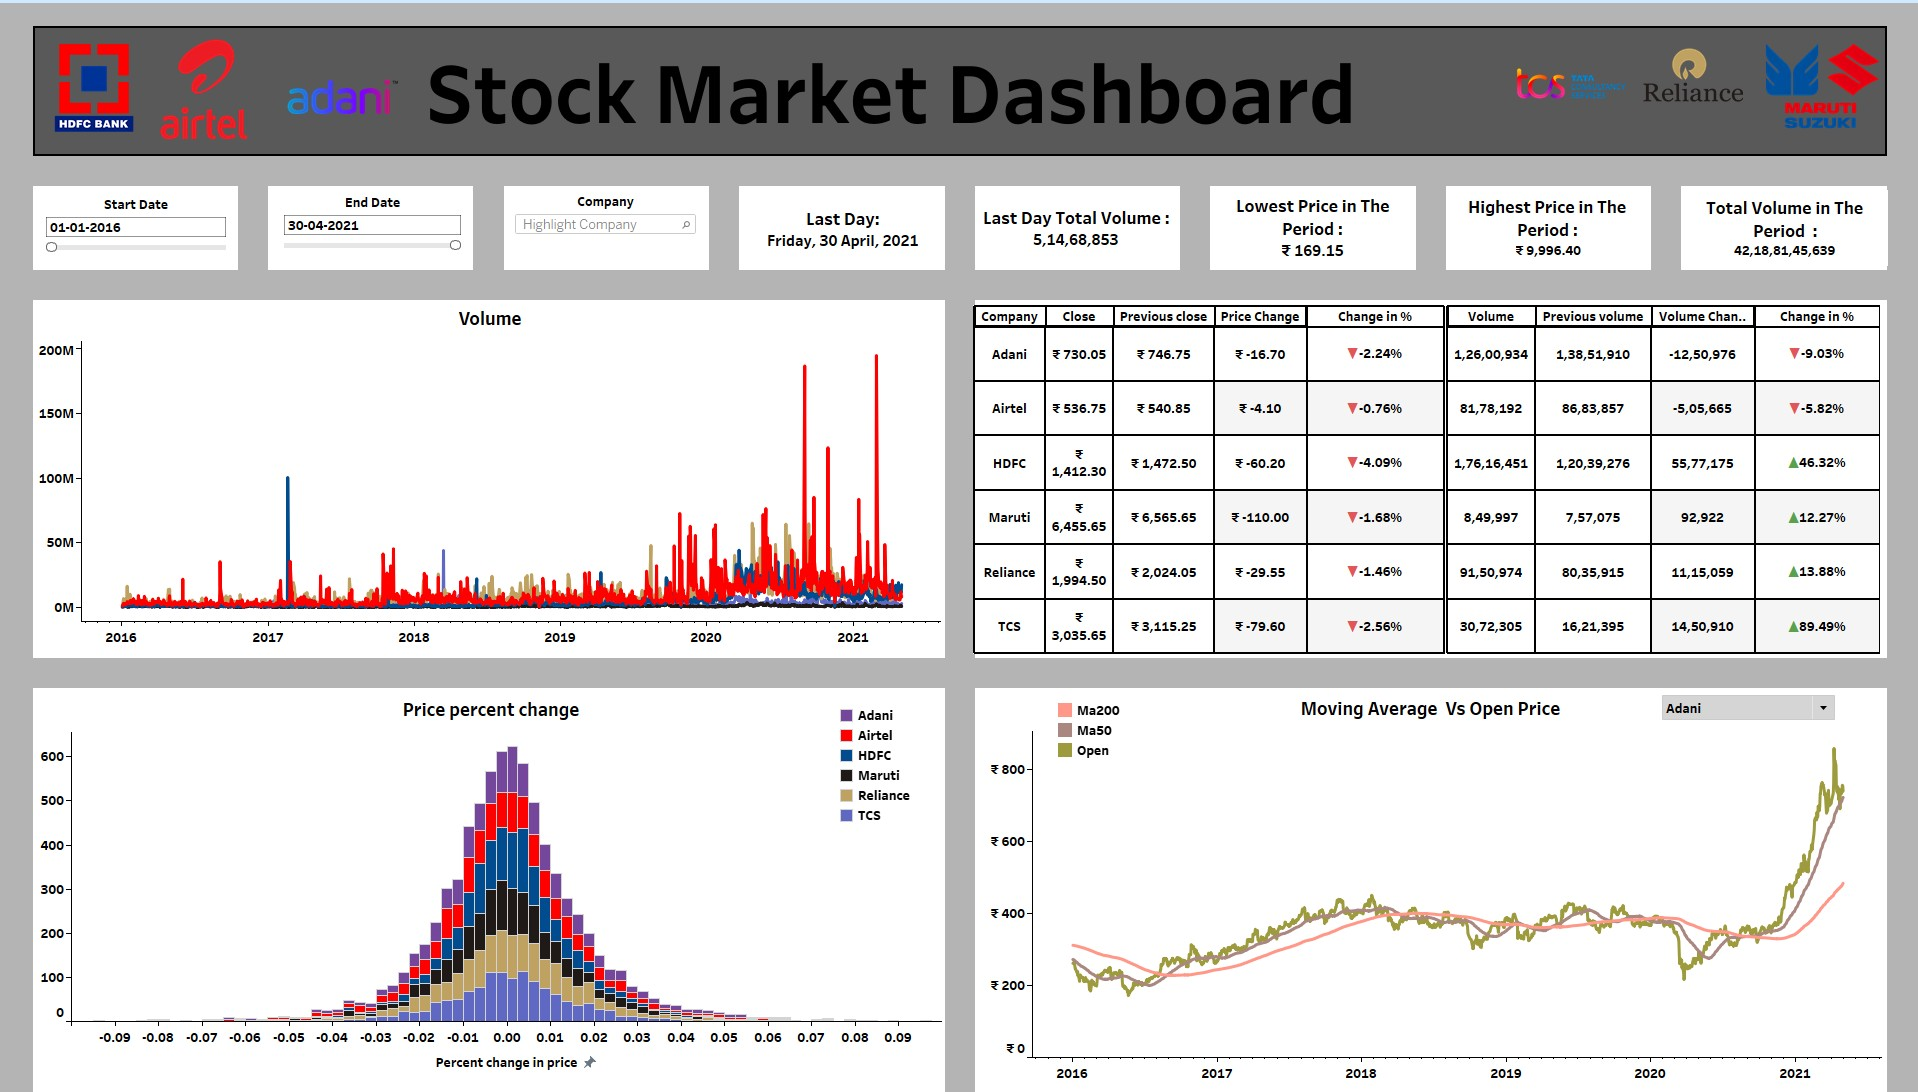

What the dashboard file says about the page in this screenshot:
{"tool":"tableau","page":{"name":"Dashboard 1","canvas":[1000,1000],"units":"permille","ordinal":0},"visuals":[{"type":"blank","box":[4.8,8.7,990.3,143.3]},{"type":"image","param":"C:/BATCOMPUTER'S Drive D/Projects - DataScience/tableau/stock market analysis/st","box":[18.1,27.1,53.7,97.7]},{"type":"image","param":"C:/BATCOMPUTER'S Drive D/Projects - DataScience/tableau/stock market analysis/st","box":[918.5,27.1,70.6,96.6]},{"type":"worksheet","title":"Title","mark":"Automatic","box":[216.7,31.5,566.7,94.5]},{"type":"image","param":"C:/BATCOMPUTER'S Drive D/Projects - DataScience/tableau/stock market analysis/st","box":[79.1,32.6,45.9,94.5]},{"type":"image","param":"C:/BATCOMPUTER'S Drive D/Projects - DataScience/tableau/stock market analysis/st","box":[859.4,40.2,52.5,102.1]},{"type":"image","param":"C:/BATCOMPUTER'S Drive D/Projects - DataScience/tableau/stock market analysis/st","box":[146.1,42.4,58.5,83.6]},{"type":"image","param":"C:/BATCOMPUTER'S Drive D/Projects - DataScience/tableau/stock market analysis/st","box":[790.6,42.4,62.2,83.6]},{"type":"blank","box":[4.8,152,123.8,102.4]},{"type":"blank","box":[128.6,152,123.8,102.4]},{"type":"blank","box":[252.4,152,123.8,102.4]},{"type":"blank","box":[376.2,152,123.8,102.4]},{"type":"blank","box":[500,152,123.8,102.4]},{"type":"blank","box":[623.8,152,123.8,102.4]},{"type":"blank","box":[747.6,152,123.8,102.4]},{"type":"blank","box":[871.4,152,123.8,102.4]},{"type":"worksheet","title":"Highest Price in The Period","mark":"Automatic","box":[756.8,166.1,105,70.6]},{"type":"worksheet","title":"Last Day","mark":"Automatic","box":[385,167.2,106.2,71.7]},{"type":"worksheet","title":"Total Volume in The Period ","mark":"Automatic","box":[880.5,168.3,108,68.4]},{"type":"highlighter","title":"Price percent change","param":"[federated.19ghb2q1tj9d9819nma4t017yuri].[none:Table Name:nk]","box":[264.3,169.4,98.4,61.9]},{"type":"worksheet","title":"Last Day Total Volume","mark":"Automatic","box":[510,169.4,102.6,65.2]},{"type":"parameter","param":"[Parameters].[Parameter 2]","box":[142.4,170.5,96.6,74.9]},{"type":"worksheet","title":"Lowest Price in The Period","mark":"Automatic","box":[632.5,171.6,106.2,60.8]},{"type":"parameter","param":"[Parameters].[Parameter 1]","box":[17.5,172.6,97.8,76]},{"type":"blank","box":[4.8,254.3,495.2,347.2]},{"type":"blank","box":[500,254.3,495.2,347.2]},{"type":"worksheet","title":"Volume","mark":"Automatic","rows":["Volume"],"cols":["Date"],"box":[14.5,268.2,475.6,314.9]},{"type":"worksheet","title":"Detailed Price Table","mark":"Automatic","rows":["Table Name","Close","Previous day close price","Change in price"],"box":[506.9,271.4,248.6,313.8]},{"type":"worksheet","title":"Detailed Volume Table ","mark":"Automatic","rows":["Table Name","Volume","Previous day volume","Change in volume"],"box":[755.6,271.4,228.7,313.8]},{"type":"blank","box":[4.8,601.5,495.2,389.8]},{"type":"blank","box":[500,601.5,495.2,389.8]},{"type":"worksheet","title":"Moving average - open price","mark":"Automatic","cols":["Date"],"box":[509.4,617.8,476.2,356.1]},{"type":"worksheet","title":"Price percent change","mark":"Automatic","rows":["Percent change in price"],"cols":["Percent change in price (bin)"],"box":[15.7,618.9,474.9,355.1]},{"type":"filter","title":"Moving average - open price","param":"[federated.19ghb2q1tj9d9819nma4t017yuri].[none:Table Name:nk]","box":[867.8,618.9,94.2,34.7]},{"type":"legend","title":"Moving average - open price","param":"[federated.19ghb2q1tj9d9819nma4t017yuri].[:Measure Names]","box":[549.8,626.5,54.3,69.5]},{"type":"legend","title":"Price percent change","param":"[federated.19ghb2q1tj9d9819nma4t017yuri].[none:Table Name:nk]","box":[434.5,630.8,47.1,133.6]}]}

Visuals, with their boxes on the dashboard's canvas, which has no fixed pixel size, in thousandths of its width and height (x1, y1, x2, y2). These are canvas units, not pixel positions in the 1918x1092 screenshot, which may show the page scaled, cropped or inside an application window:
blank: x1=5, y1=9, x2=995, y2=152
image: x1=18, y1=27, x2=72, y2=125
image: x1=918, y1=27, x2=989, y2=124
"Title" worksheet: x1=217, y1=32, x2=783, y2=126
image: x1=79, y1=33, x2=125, y2=127
image: x1=859, y1=40, x2=912, y2=142
image: x1=146, y1=42, x2=205, y2=126
image: x1=791, y1=42, x2=853, y2=126
blank: x1=5, y1=152, x2=129, y2=254
blank: x1=129, y1=152, x2=252, y2=254
blank: x1=252, y1=152, x2=376, y2=254
blank: x1=376, y1=152, x2=500, y2=254
blank: x1=500, y1=152, x2=624, y2=254
blank: x1=624, y1=152, x2=748, y2=254
blank: x1=748, y1=152, x2=871, y2=254
blank: x1=871, y1=152, x2=995, y2=254
"Highest Price in The Period" worksheet: x1=757, y1=166, x2=862, y2=237
"Last Day" worksheet: x1=385, y1=167, x2=491, y2=239
"Total Volume in The Period " worksheet: x1=880, y1=168, x2=988, y2=237
"Price percent change" highlighter: x1=264, y1=169, x2=363, y2=231
"Last Day Total Volume" worksheet: x1=510, y1=169, x2=613, y2=235
parameter: x1=142, y1=170, x2=239, y2=245
"Lowest Price in The Period" worksheet: x1=632, y1=172, x2=739, y2=232
parameter: x1=18, y1=173, x2=115, y2=249
blank: x1=5, y1=254, x2=500, y2=602
blank: x1=500, y1=254, x2=995, y2=602
"Volume" worksheet: x1=14, y1=268, x2=490, y2=583
"Detailed Price Table" worksheet: x1=507, y1=271, x2=756, y2=585
"Detailed Volume Table " worksheet: x1=756, y1=271, x2=984, y2=585
blank: x1=5, y1=602, x2=500, y2=991
blank: x1=500, y1=602, x2=995, y2=991
"Moving average - open price" worksheet: x1=509, y1=618, x2=986, y2=974
"Price percent change" worksheet: x1=16, y1=619, x2=491, y2=974
"Moving average - open price" filter: x1=868, y1=619, x2=962, y2=654
"Moving average - open price" legend: x1=550, y1=626, x2=604, y2=696
"Price percent change" legend: x1=434, y1=631, x2=482, y2=764
